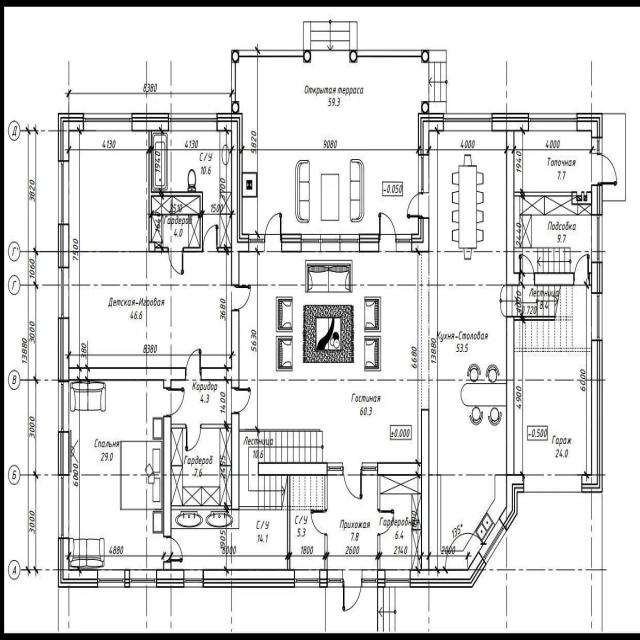Bathrooms: (151, 131, 231, 247), (290, 475, 325, 569), (239, 512, 287, 569)
Corridors: (236, 57, 422, 233), (514, 353, 591, 474), (514, 131, 591, 201), (327, 476, 376, 569), (172, 428, 231, 505), (515, 197, 591, 247), (381, 475, 421, 569), (172, 510, 231, 569), (171, 381, 231, 422), (152, 196, 199, 246), (603, 114, 625, 201)
Doors: (421, 252, 429, 409), (525, 474, 581, 493), (342, 570, 362, 614), (377, 211, 397, 253), (593, 154, 619, 185), (342, 463, 362, 501), (263, 212, 281, 253), (164, 386, 186, 416), (232, 387, 253, 415), (230, 285, 253, 310), (407, 192, 429, 218), (519, 253, 535, 286), (186, 424, 202, 455), (168, 246, 184, 277), (164, 536, 183, 562), (574, 253, 589, 285), (185, 349, 201, 379), (378, 509, 395, 537), (203, 224, 218, 253), (310, 510, 327, 535), (232, 529, 238, 569)
LBwalls: (377, 409, 487, 589), (499, 316, 525, 531), (217, 112, 249, 286), (581, 340, 604, 493), (200, 309, 240, 389), (69, 367, 187, 389), (506, 131, 521, 286), (58, 538, 98, 588), (203, 569, 295, 588), (58, 112, 84, 161), (418, 112, 444, 156), (231, 413, 239, 529), (257, 462, 327, 475), (164, 416, 171, 538), (58, 317, 69, 381), (577, 111, 603, 138), (492, 112, 528, 131), (132, 113, 169, 131), (412, 217, 430, 253), (157, 569, 184, 588), (535, 273, 574, 286), (58, 224, 69, 268), (58, 432, 69, 475), (359, 233, 379, 253), (281, 234, 302, 252), (303, 21, 311, 63), (591, 263, 602, 293), (591, 185, 602, 214), (421, 101, 447, 113), (421, 50, 446, 62), (350, 21, 357, 63), (319, 569, 327, 588), (377, 569, 385, 587), (231, 49, 239, 63), (231, 101, 240, 113), (125, 569, 130, 588), (149, 241, 155, 252), (163, 562, 172, 569), (589, 272, 592, 286)
Offices: (69, 131, 231, 367), (239, 253, 421, 462), (429, 131, 507, 568), (69, 381, 163, 569)
Stairs: (239, 432, 324, 507), (498, 285, 591, 353), (515, 247, 591, 272), (311, 19, 349, 63), (421, 62, 448, 102), (377, 588, 397, 634)
Walls: (149, 131, 203, 252), (514, 191, 592, 205), (357, 50, 422, 57), (240, 50, 303, 57), (171, 505, 231, 510), (287, 476, 290, 569), (240, 429, 321, 432), (239, 506, 282, 511), (231, 62, 236, 102), (200, 423, 232, 429), (514, 317, 556, 321), (377, 534, 381, 569), (324, 475, 327, 511), (377, 475, 380, 510), (324, 534, 327, 569), (172, 423, 186, 428), (218, 247, 232, 252), (155, 249, 168, 253)
Windows: (479, 518, 507, 564), (302, 233, 360, 252), (83, 113, 132, 131), (168, 113, 217, 131), (443, 113, 492, 131), (528, 113, 577, 131), (58, 475, 70, 538), (58, 161, 69, 224), (58, 381, 69, 432), (58, 268, 69, 319), (591, 293, 602, 341), (592, 215, 603, 262), (130, 570, 157, 588), (98, 570, 125, 588), (385, 569, 410, 588), (294, 569, 319, 588), (418, 155, 429, 193), (184, 570, 203, 588), (248, 234, 265, 252), (327, 569, 343, 588), (396, 234, 412, 252), (362, 569, 377, 588), (327, 463, 343, 476), (362, 463, 378, 476), (591, 138, 603, 154)
